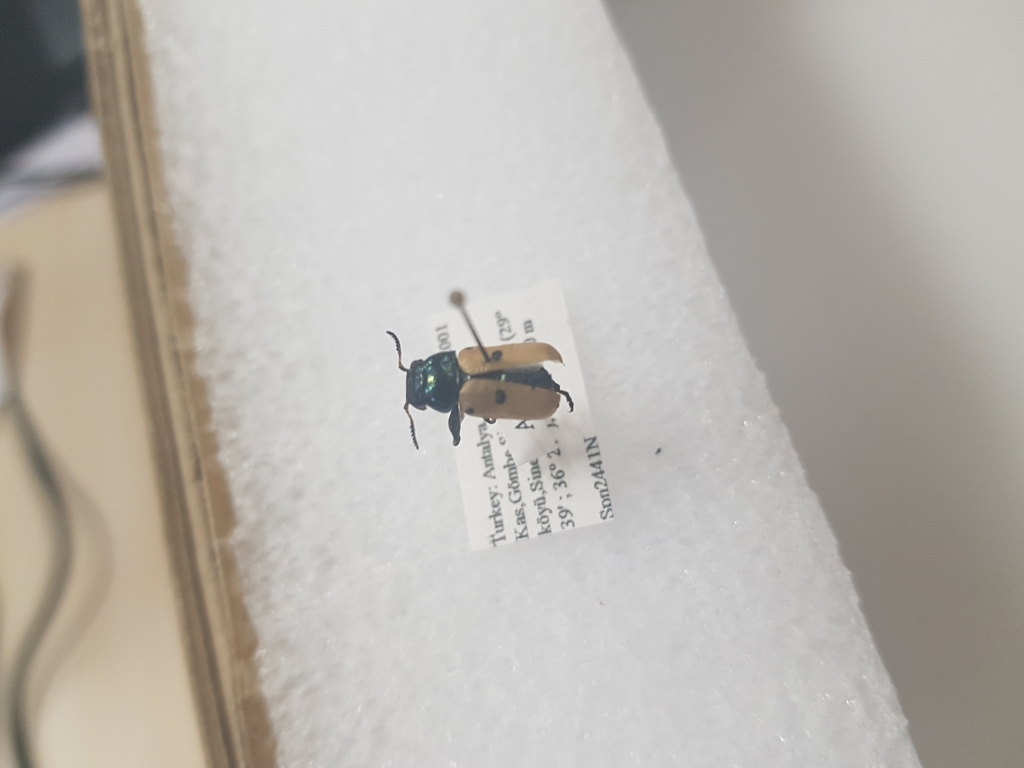Labidostomis_maculipennis: (381, 317, 581, 445)
